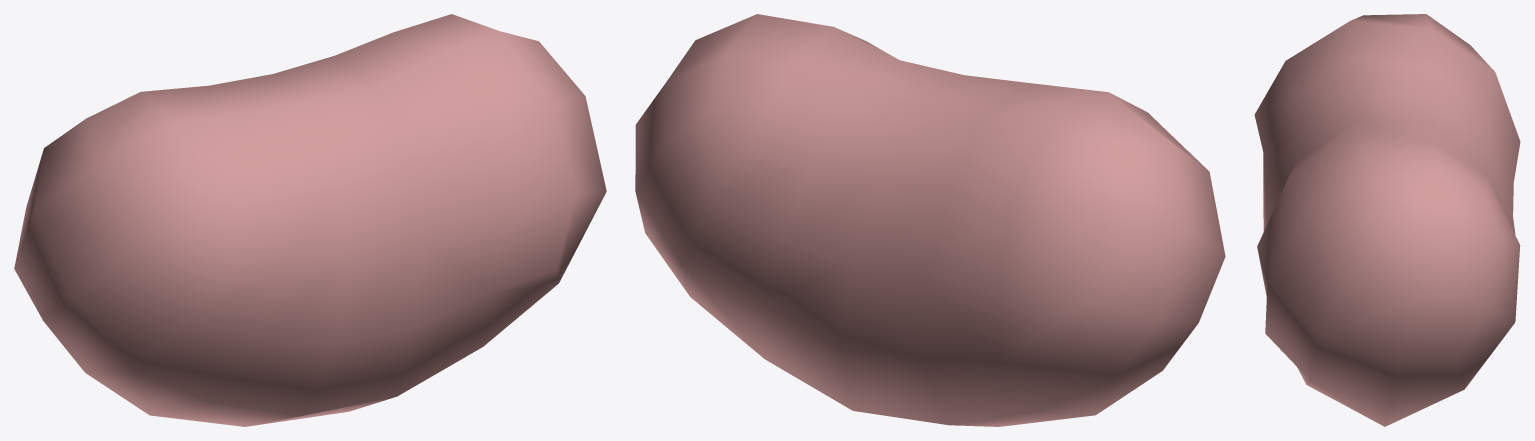
File: Gragea.fbx
The picture shows the model from 3 angles, left to right: view 1: azimuth 30°, elevation 25°; view 2: azimuth 150°, elevation 25°; view 3: azimuth 270°, elevation 25°; orthographic projection. The views are drawn at different scales.
Visible parts, largest first — view 1: Escenario:Gragea; view 2: Escenario:Gragea; view 3: Escenario:Gragea.
Part boxes in pixels (x1,y1,x2,y2): Escenario:Gragea: [14, 14, 606, 426]; Escenario:Gragea: [635, 14, 1225, 426]; Escenario:Gragea: [1254, 14, 1520, 426].
Size of the model in its own units: 4.94 by 3.09 by 2.41.
